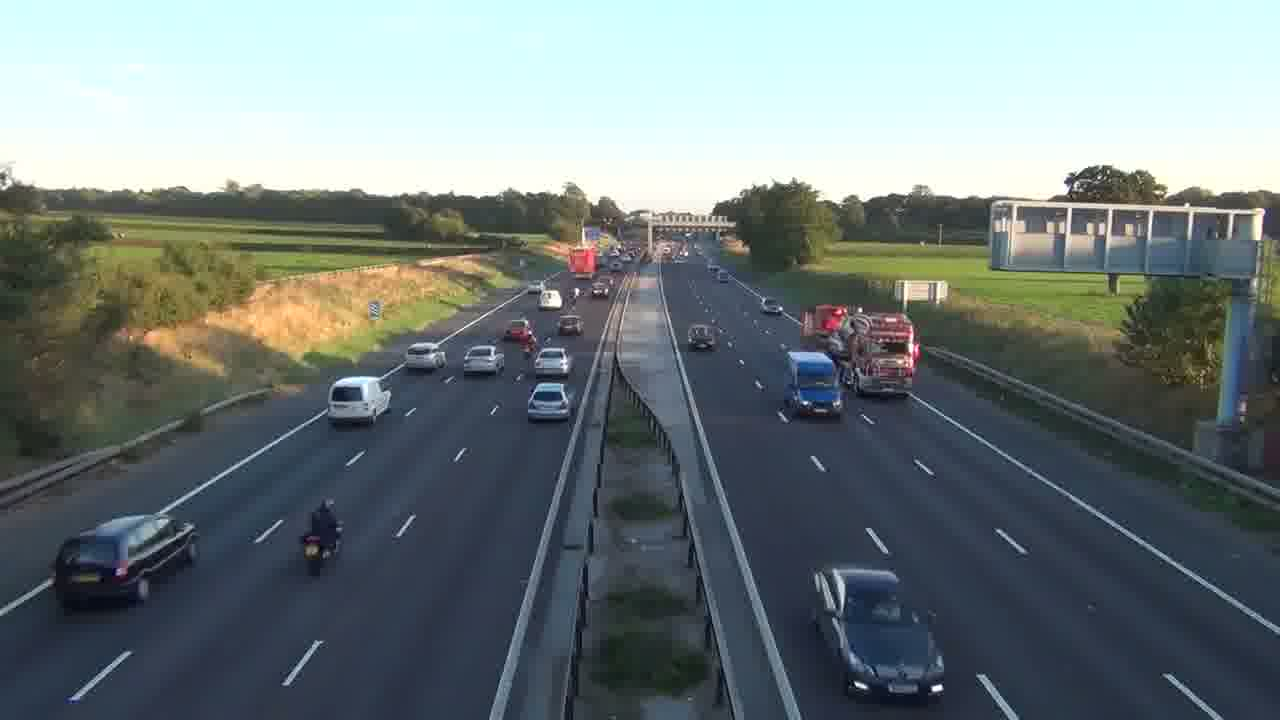car: (328, 375, 392, 426), (527, 382, 574, 422), (463, 343, 505, 375), (532, 347, 572, 380), (406, 341, 446, 372), (558, 314, 584, 337)
truck: (810, 563, 945, 704), (52, 512, 199, 611), (846, 312, 918, 398), (782, 349, 845, 419)
